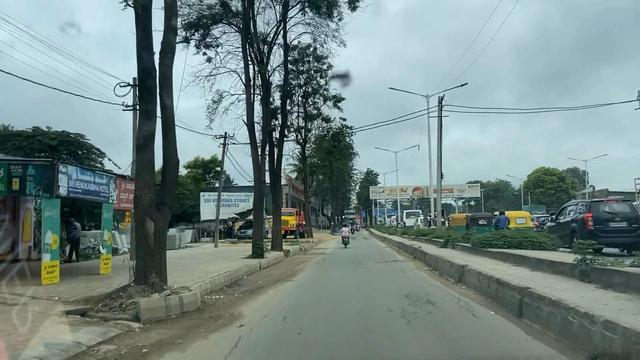RoadDamages: (391, 281, 457, 338)
